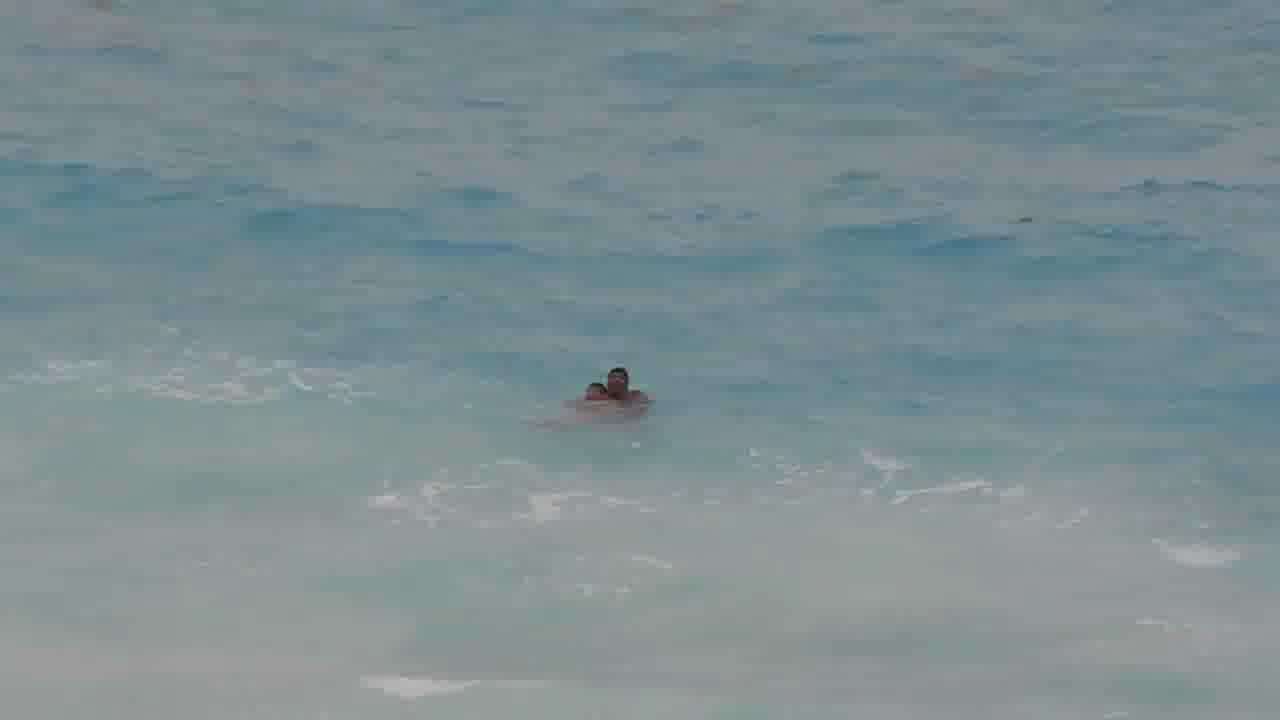swimmer: (603, 362, 635, 397), (577, 377, 604, 405)
